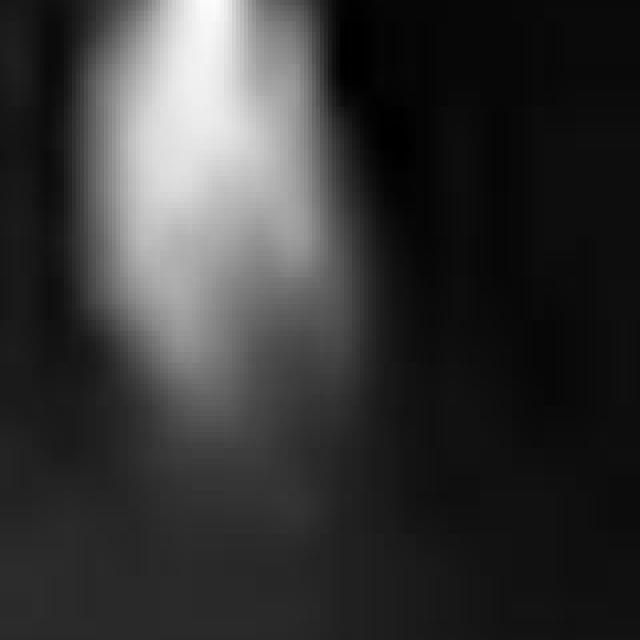person: (73, 1, 381, 481)
